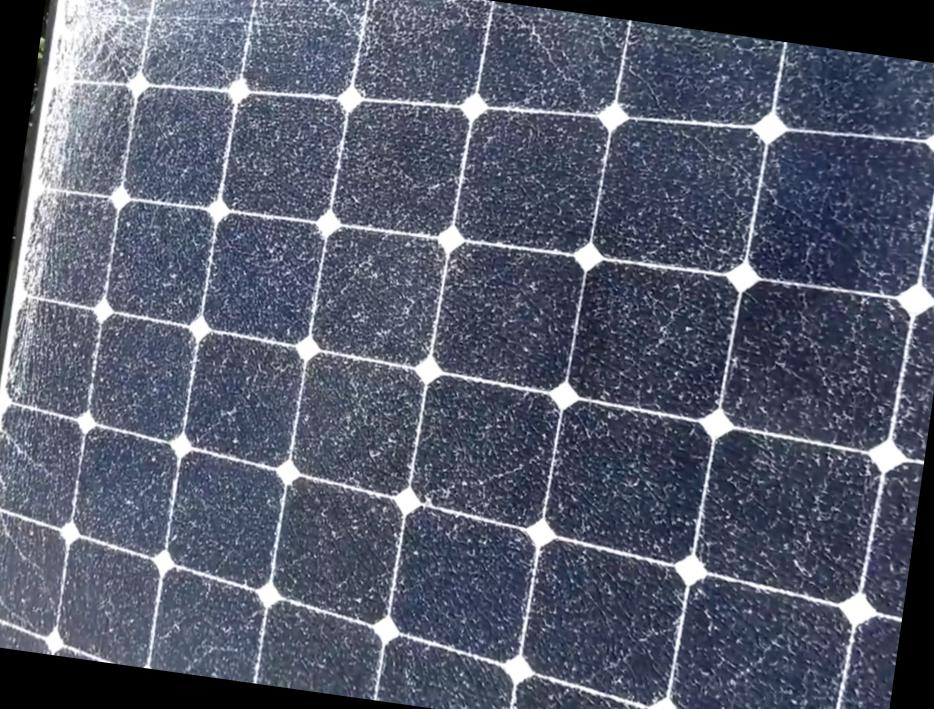Crack: (0, 0, 145, 414), (58, 0, 449, 65)
